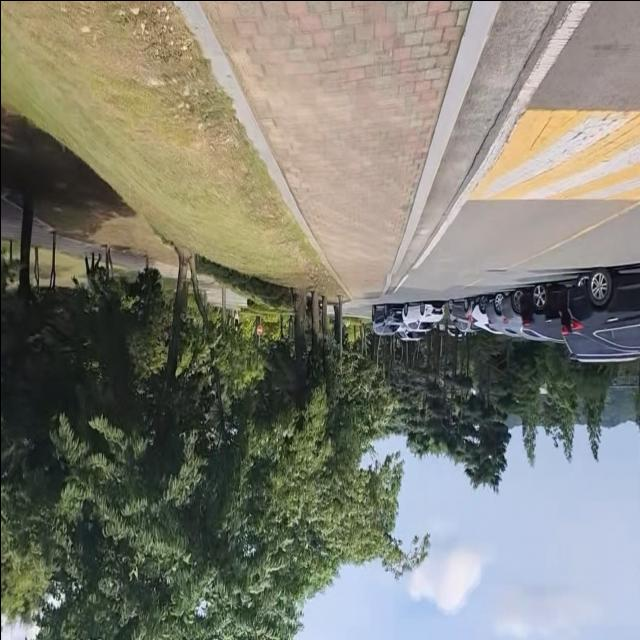obstacle: (550, 266, 640, 371), (441, 271, 563, 343), (366, 298, 449, 344)
road: (384, 0, 640, 302)
sidewalk: (178, 0, 497, 300)
